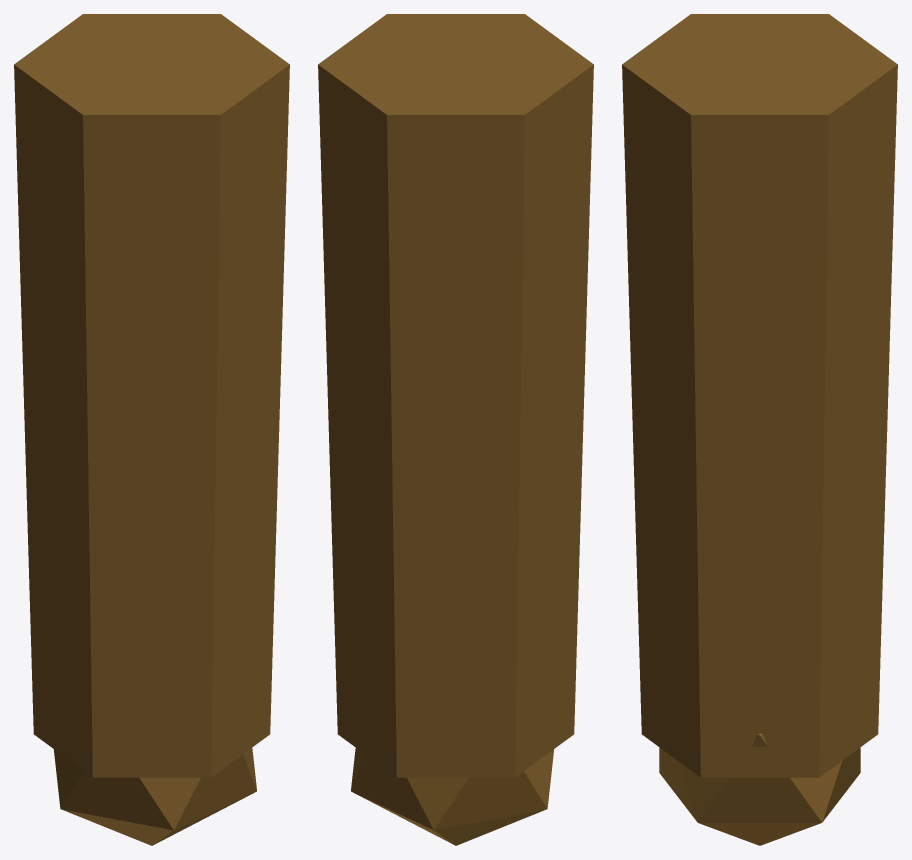
File: le-z-finger.glb
The picture shows the model from 3 angles, left to right: view 1: azimuth 30°, elevation 25°; view 2: azimuth 150°, elevation 25°; view 3: azimuth 270°, elevation 25°; orthographic projection.
Visible parts, largest first — view 1: le-z-finger; view 2: le-z-finger; view 3: le-z-finger.
Part boxes in pixels (x1,y1,x2,y2): le-z-finger: (14, 14, 289, 845); le-z-finger: (318, 14, 593, 845); le-z-finger: (622, 14, 897, 845).
Bounding box in the file's own units: 0.0242 × 0.0875 × 0.028.
1 material, 1 textured.
